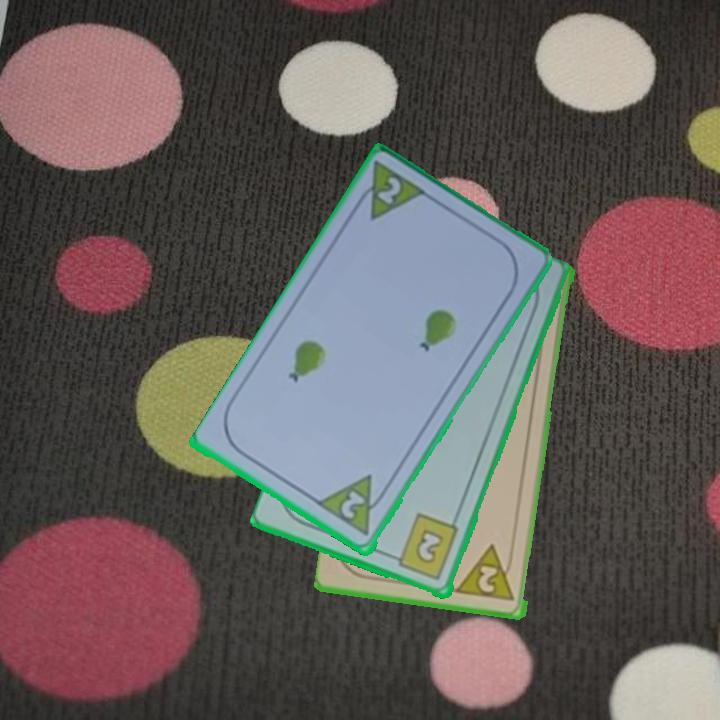2b: (387, 511, 462, 584)
2p: (315, 471, 392, 540), (455, 542, 518, 605), (373, 173, 405, 209)
